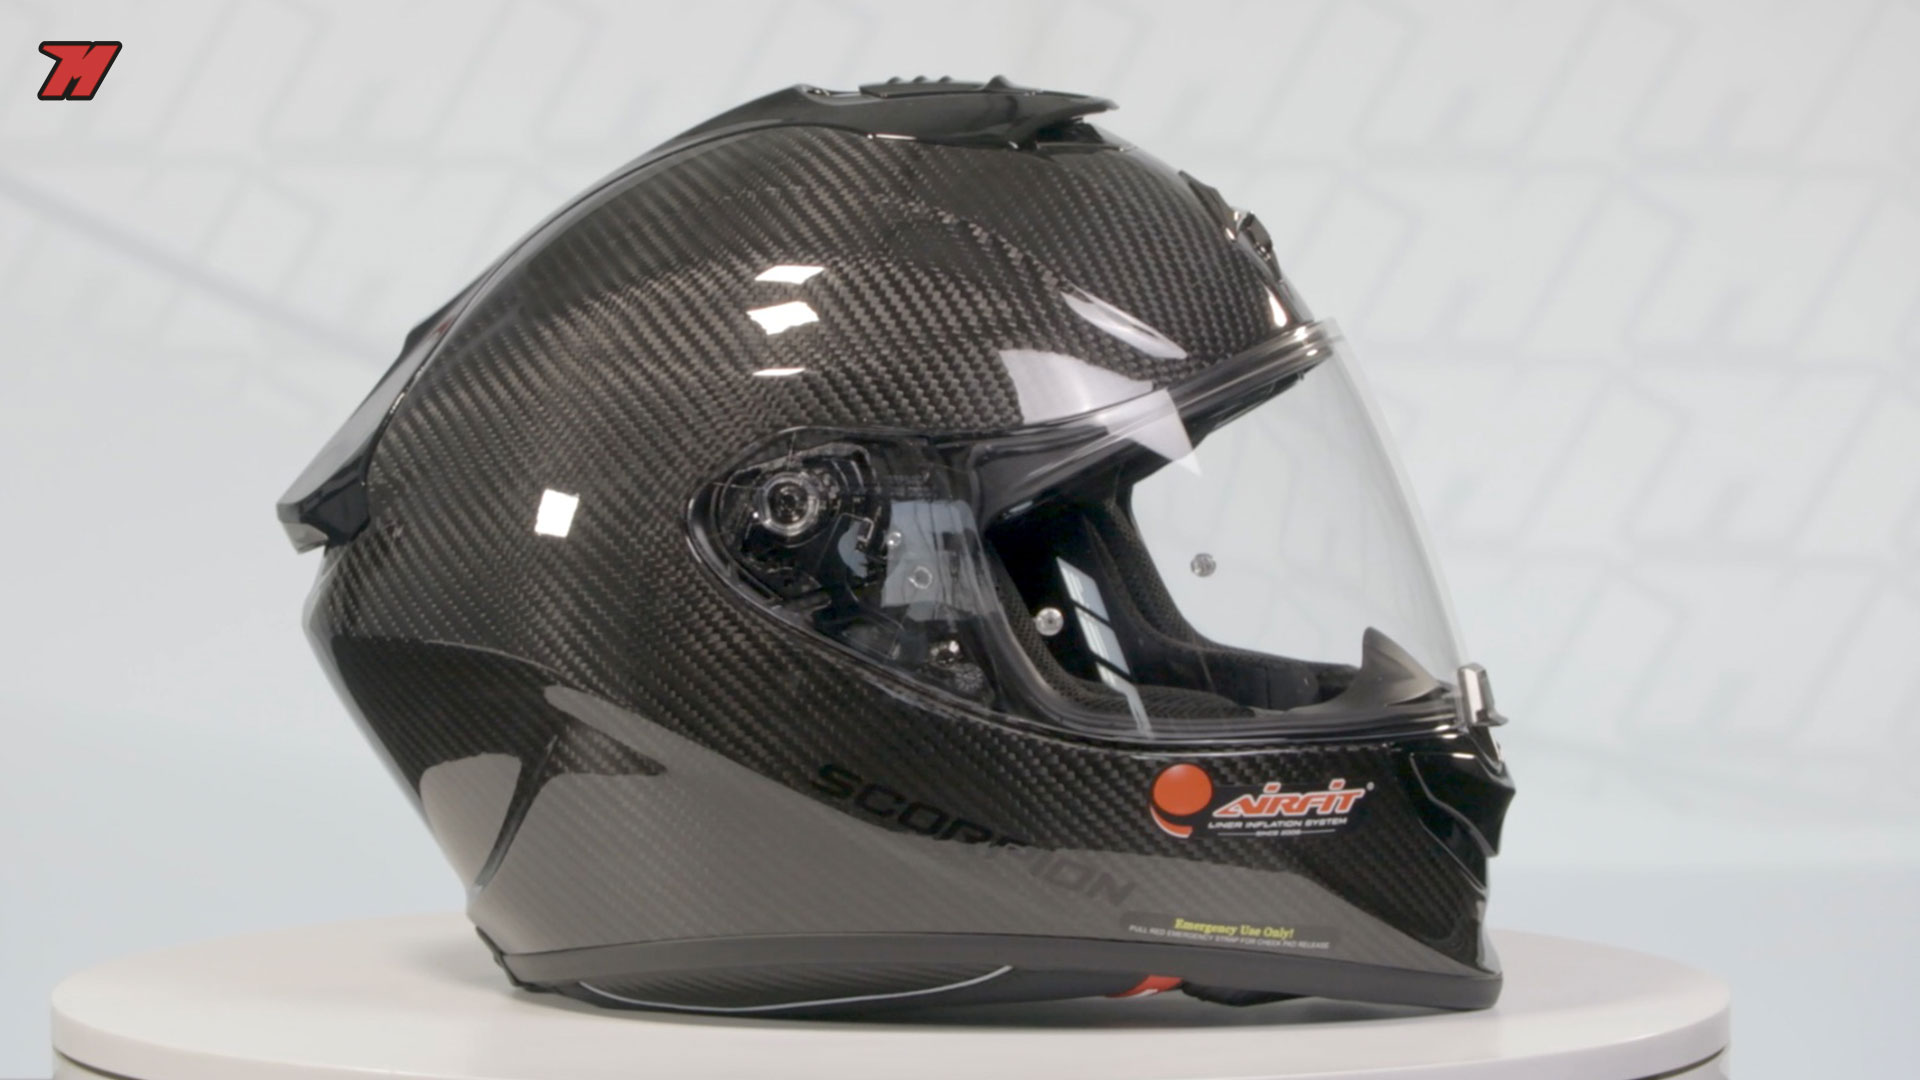with_helmet: (257, 59, 1578, 1039)
